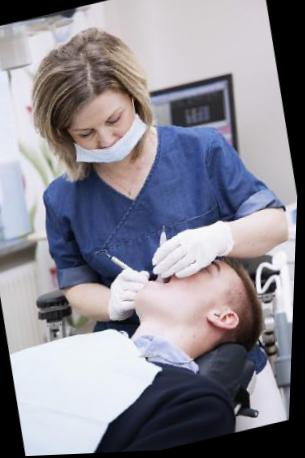NONE: (134, 249, 243, 326)
WRONG: (67, 97, 151, 176)
